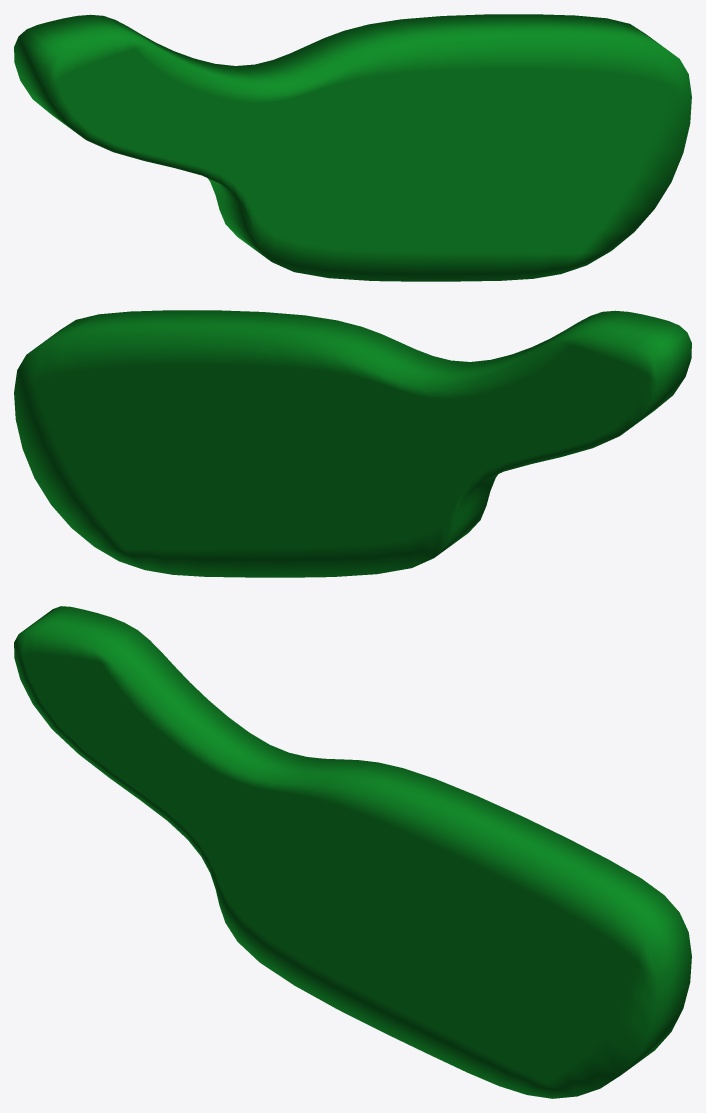
Rendered from grip_03.fbx.
3 views of the same model, one above another, from view 1: azimuth 30°, elevation 25°; view 2: azimuth 150°, elevation 25°; view 3: azimuth 330°, elevation 25° (orthographic).
Visible parts, largest first — view 1: Plane.002; view 2: Plane.002; view 3: Plane.002.
Boxes of the visible parts, <box> form: Plane.002: <box>14,14,691,281</box>; Plane.002: <box>14,310,691,577</box>; Plane.002: <box>14,606,691,1098</box>.
Size of the model in its own units: 1228 by 627 by 113.
